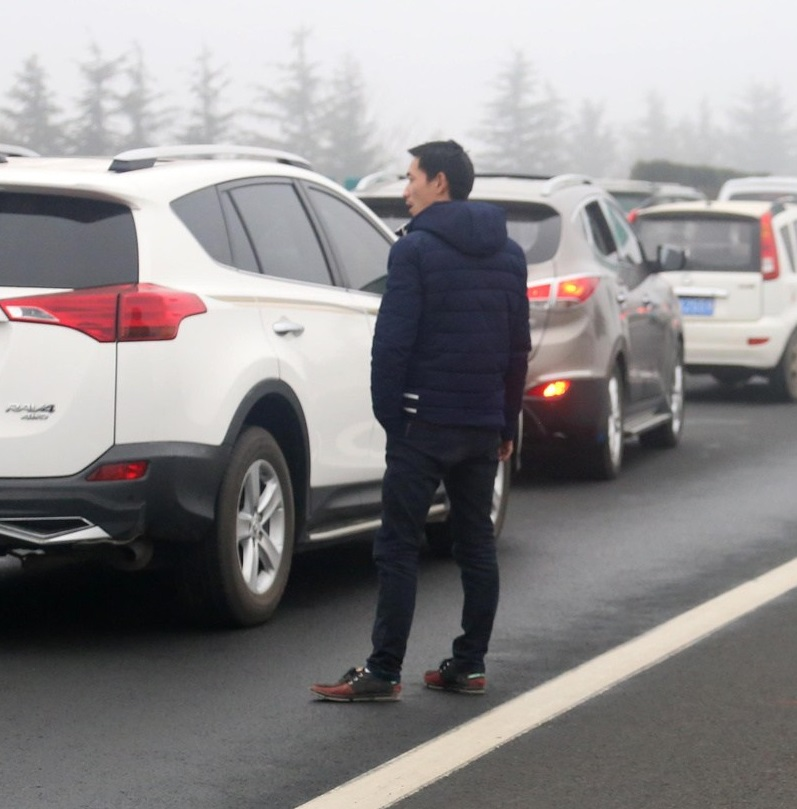person: (306, 130, 536, 707)
